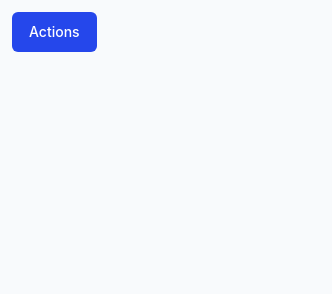
Test: Menu › opens a menu of items
Click the button "Actions". click: (54, 32)
box: x1=12 y1=12 x2=97 y2=52
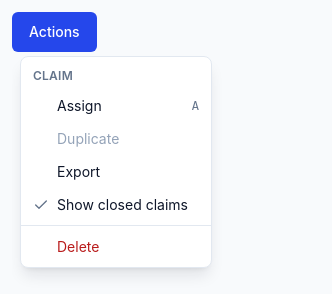
Result: the menu is shown at x1=20 y1=56 x2=212 y2=268
